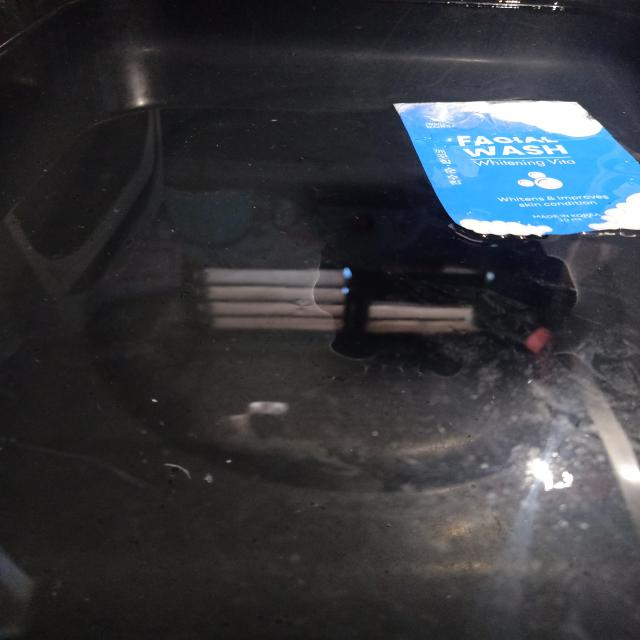Plastic Wrapper: (395, 100, 640, 238)
